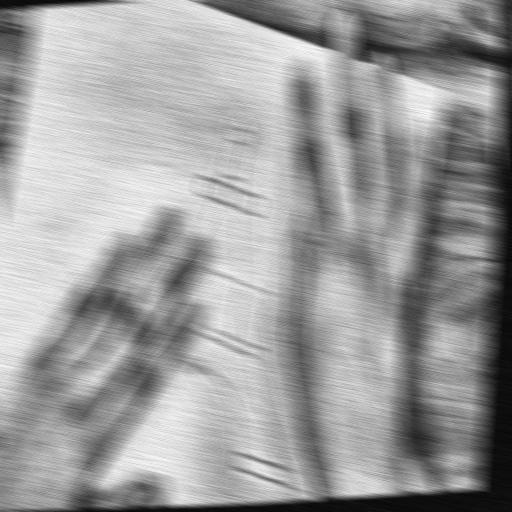eiffel-tower: (18, 42, 388, 498)
top_right: (439, 86, 449, 93)
